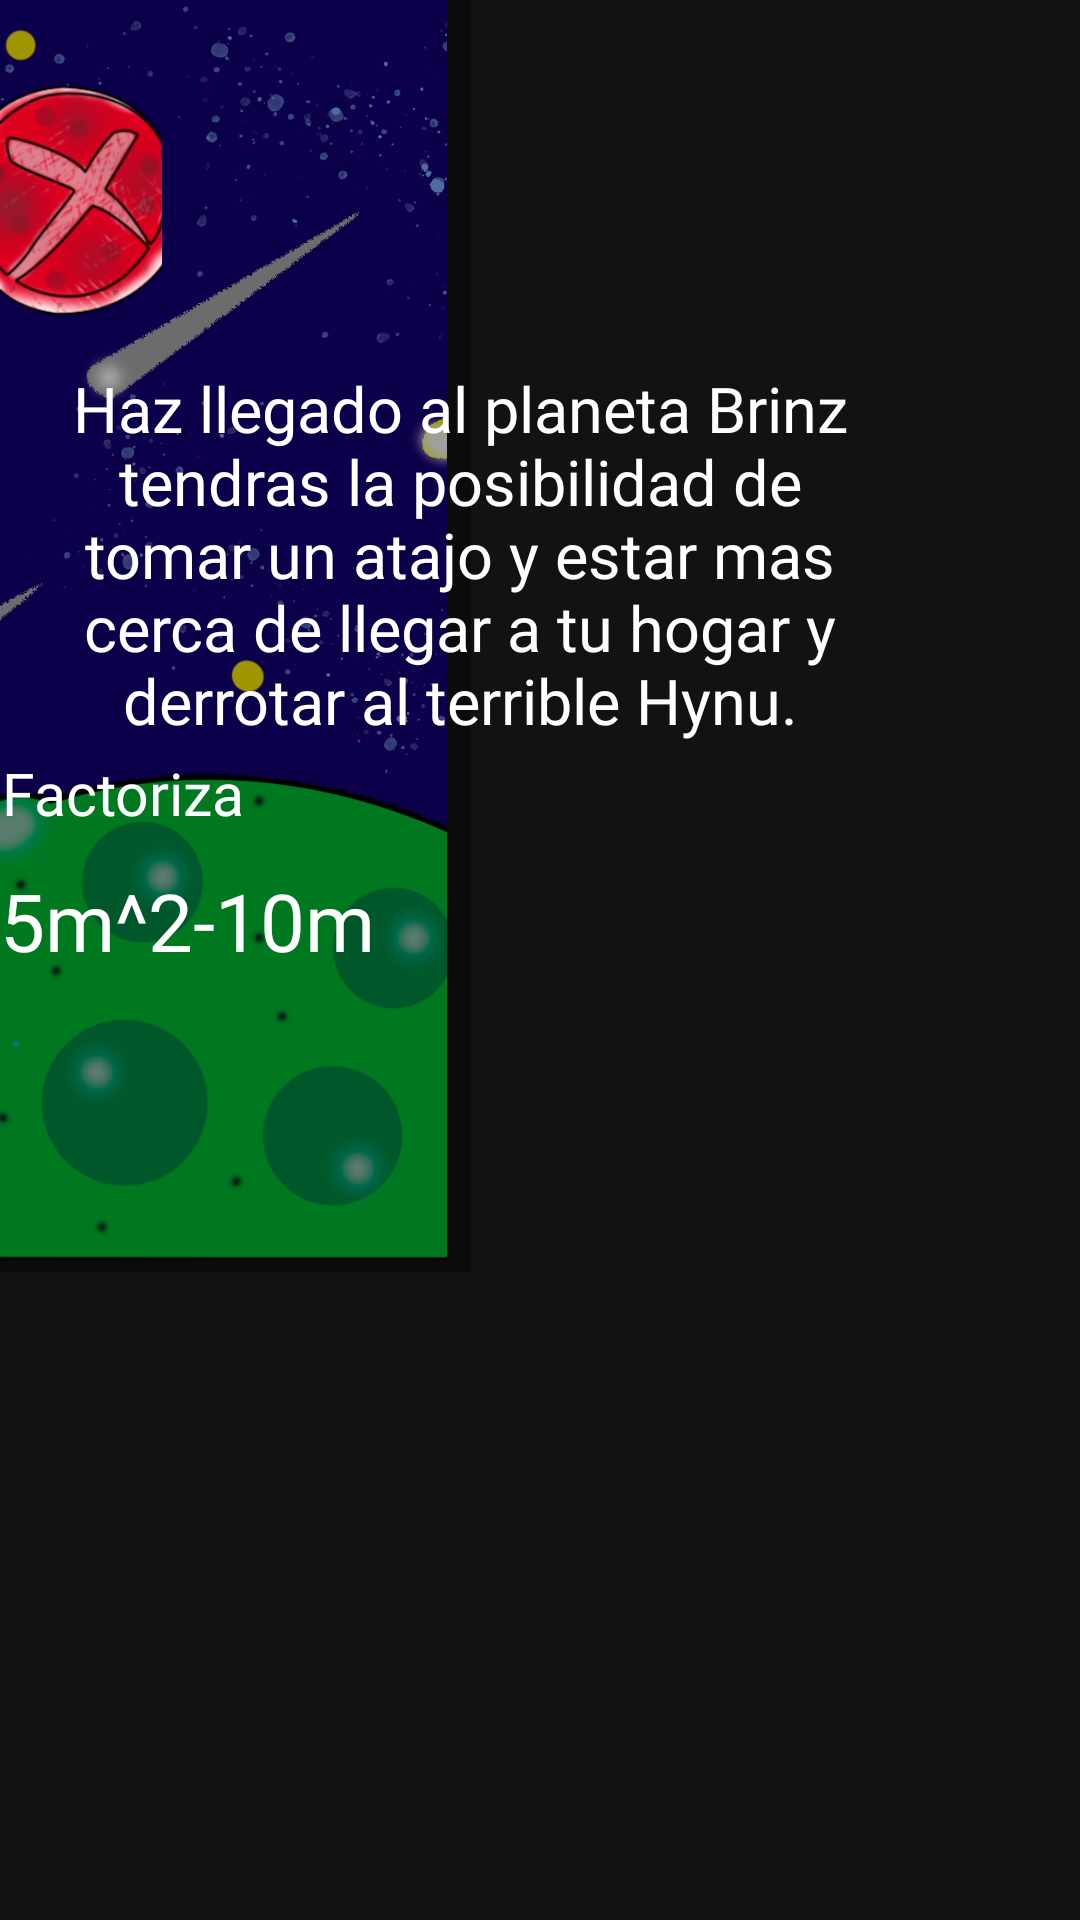

Icon click points for this 1080px x 1920px phone screenshot, format [x,y]:
error: [81,173]
